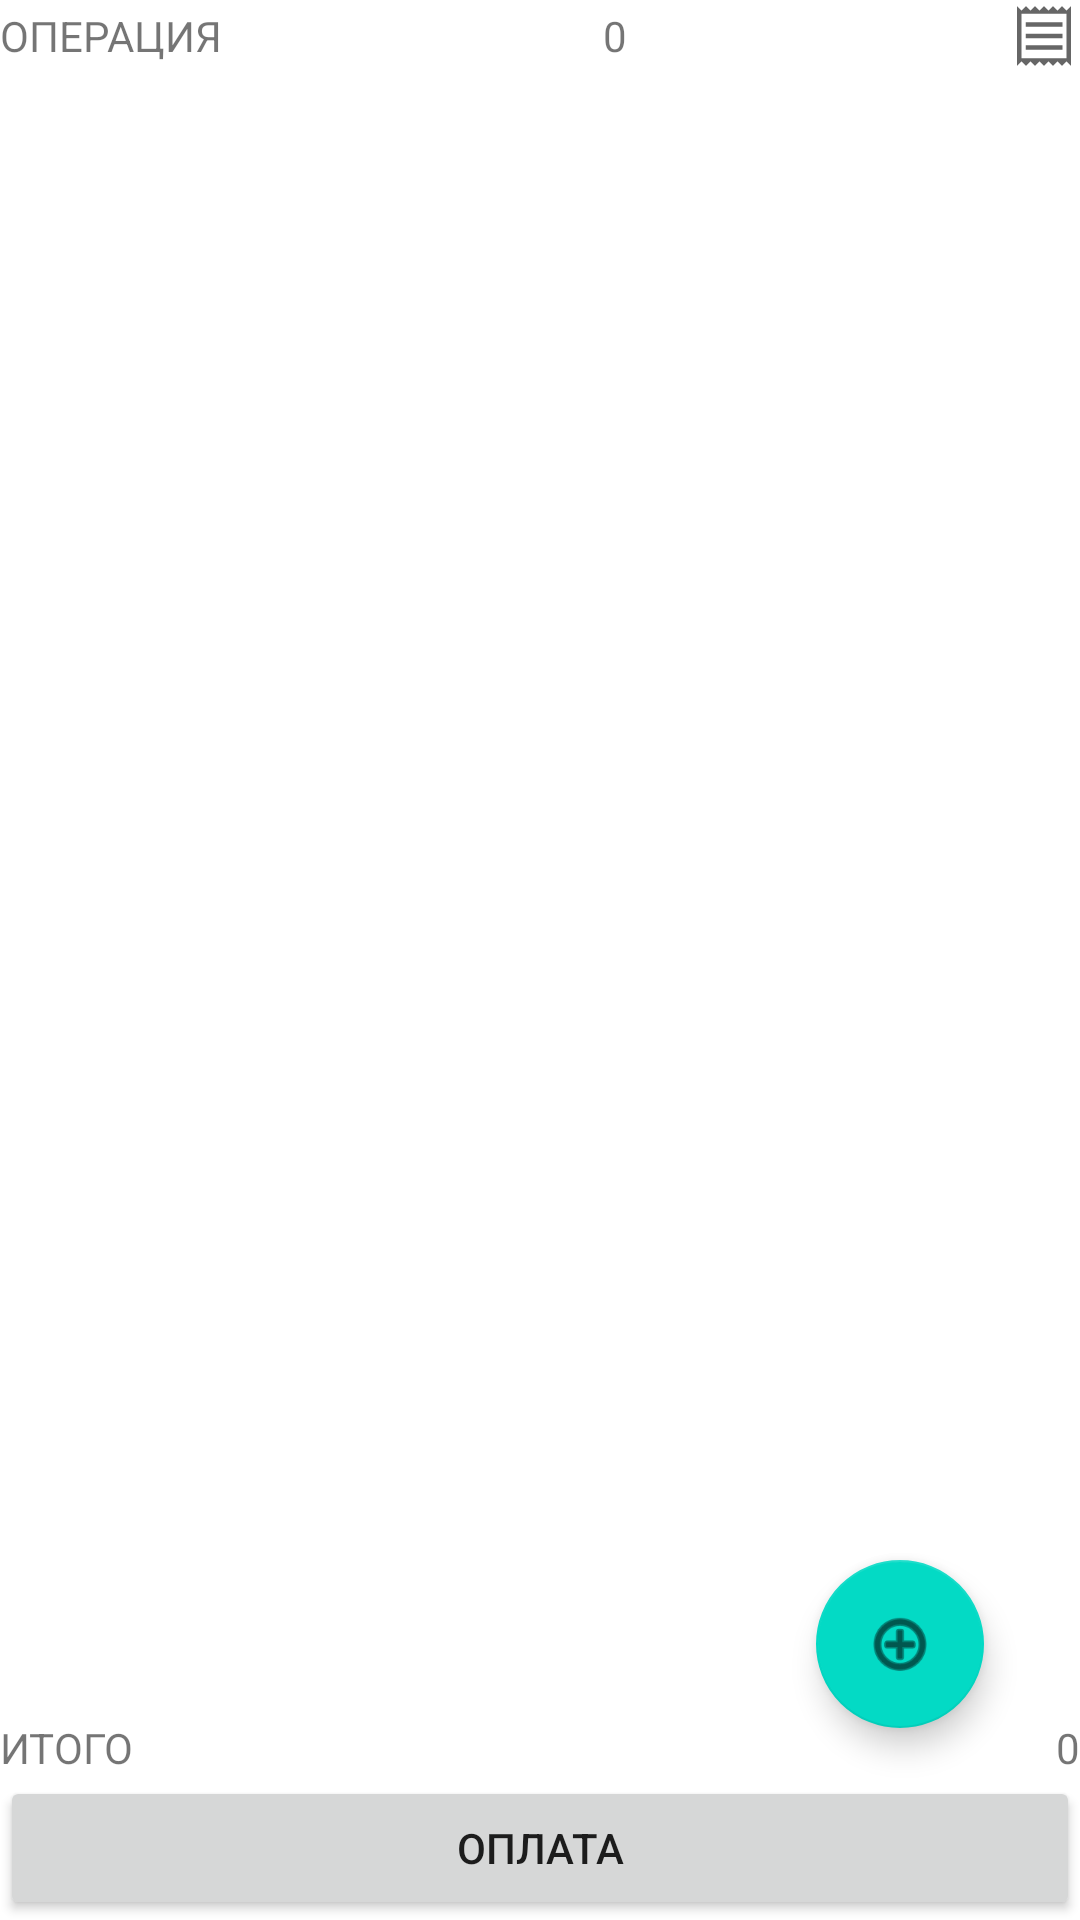

Where icons sit on this 1080×1920 app screen, as (x1, y1, x2, y2):
add: (816, 1560, 984, 1728)
